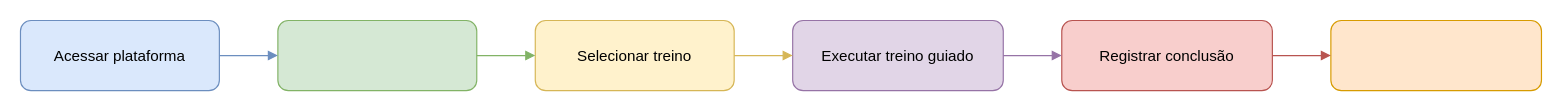
The diagram is 1562 pixels wide and 111 high, and some of its shapes have lost their labels. Here are the shapes that lost their labels. From the top down, the centre of each, then its label:
At [377,55]: "Explorar catálogo".
At [1435,55]: "Acompanhar progresso".
